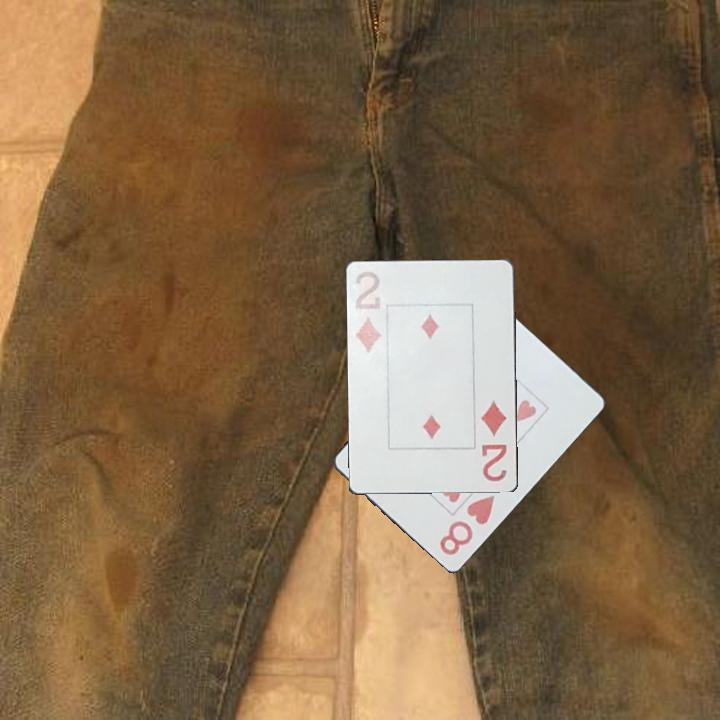2d: (350, 268, 386, 357), (478, 397, 510, 485)
8h: (436, 491, 498, 559)
